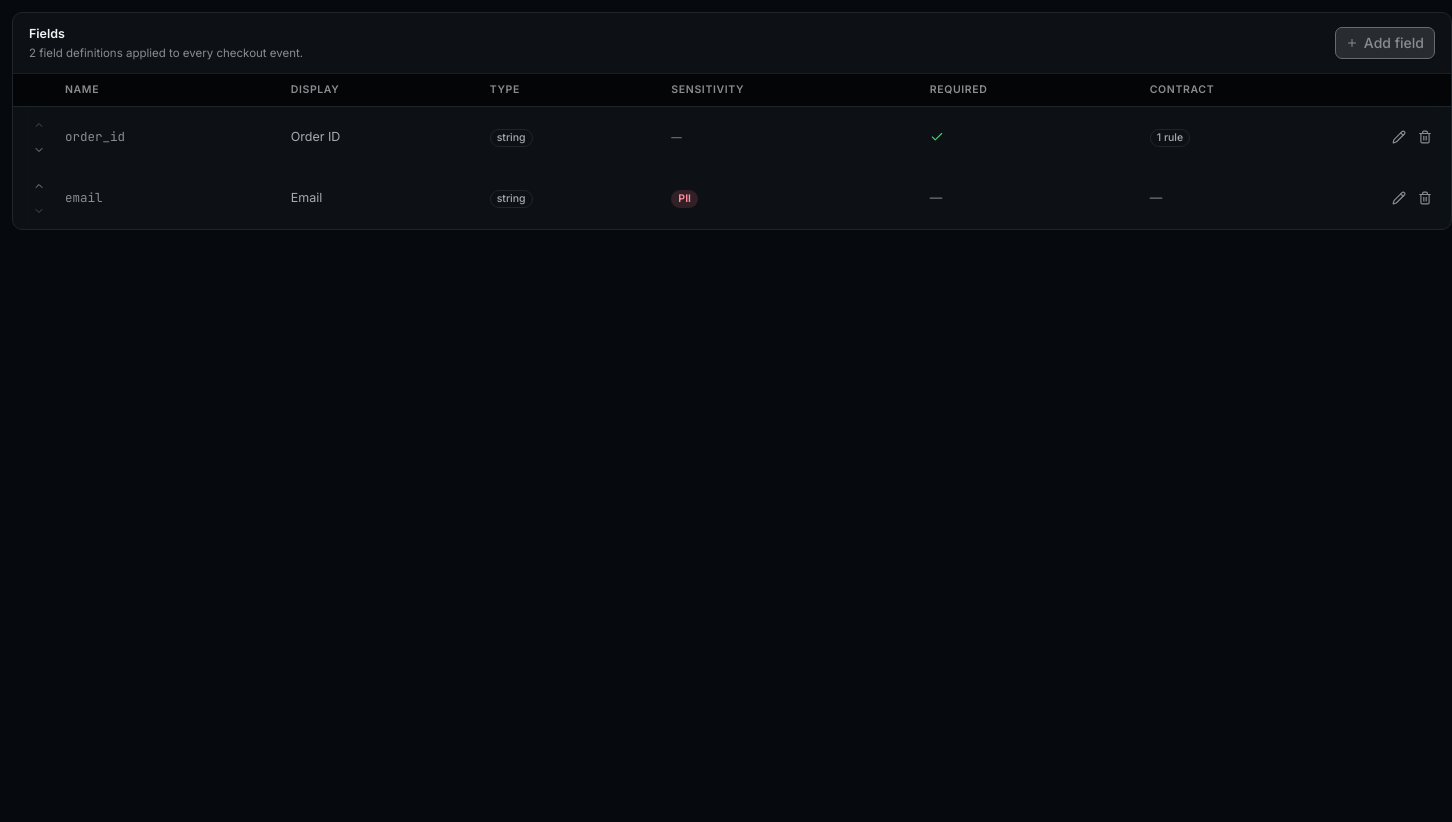
Test: FieldsEditor field edit subpage (PLAN-46) › says why a new field without a name is not saved
This screenshot has width=1452, height=822.
Click the button "Add field" at {"x": 1385, "y": 43}, box [1335,27,1435,59]
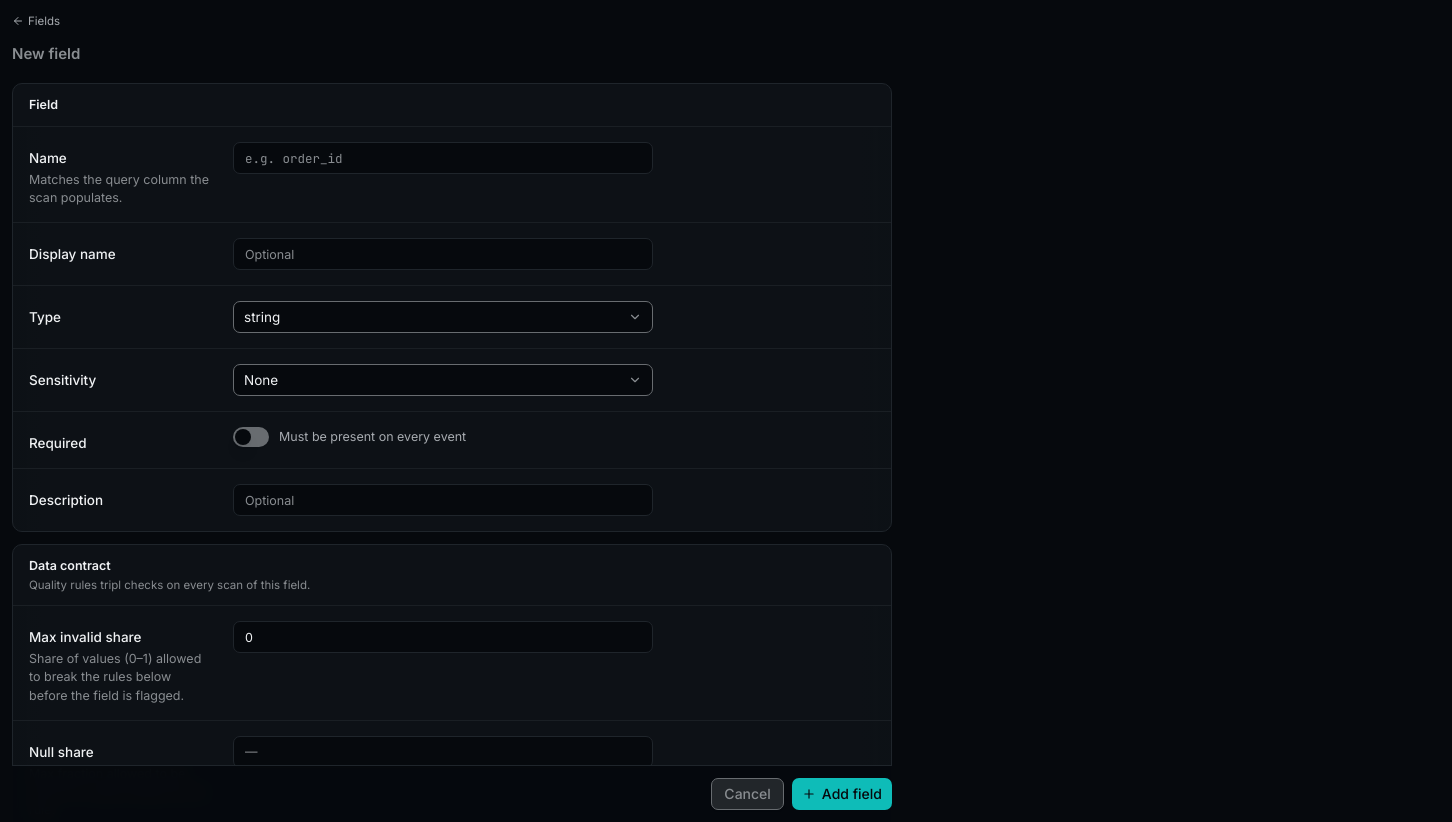
Click the button "Add field" at {"x": 842, "y": 794}, box [792,778,892,810]
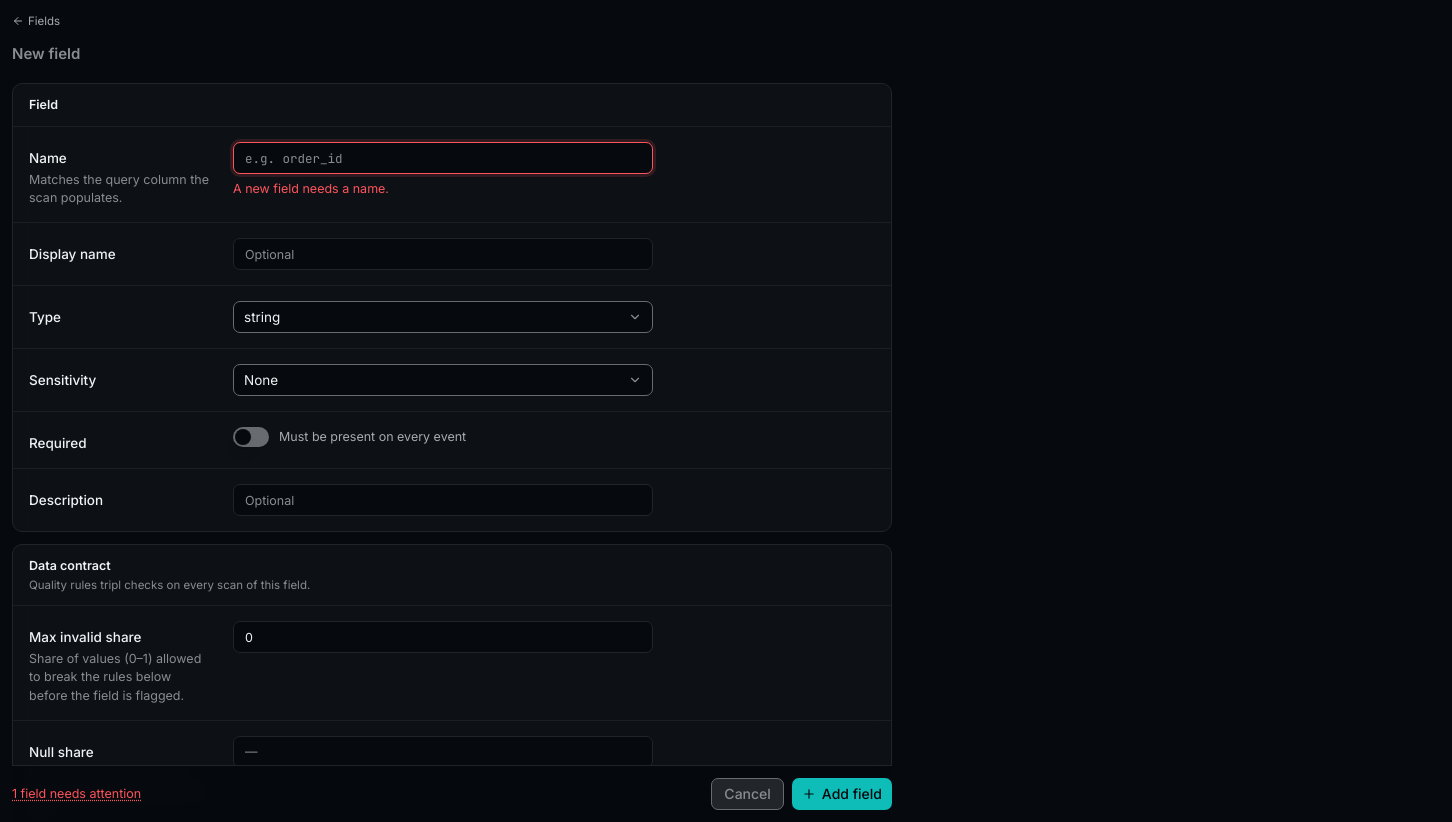
Expected: the message "A new field needs a name." is shown, [233,181,389,196]
